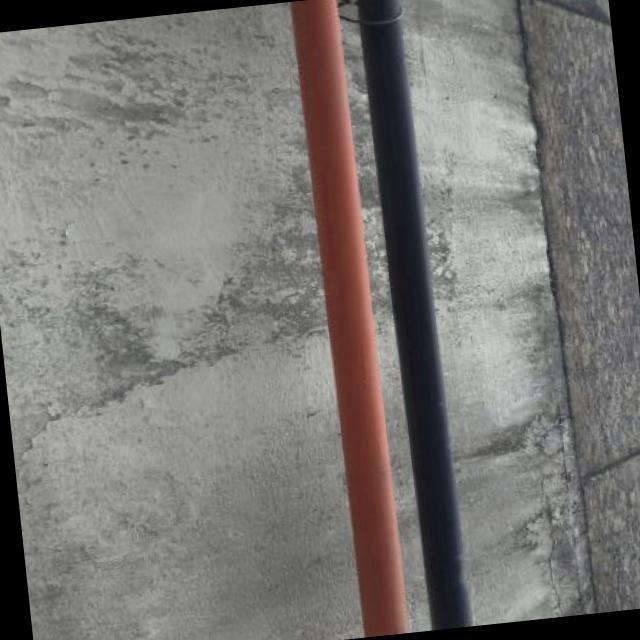gas: (288, 0, 406, 637), (359, 0, 470, 630)
